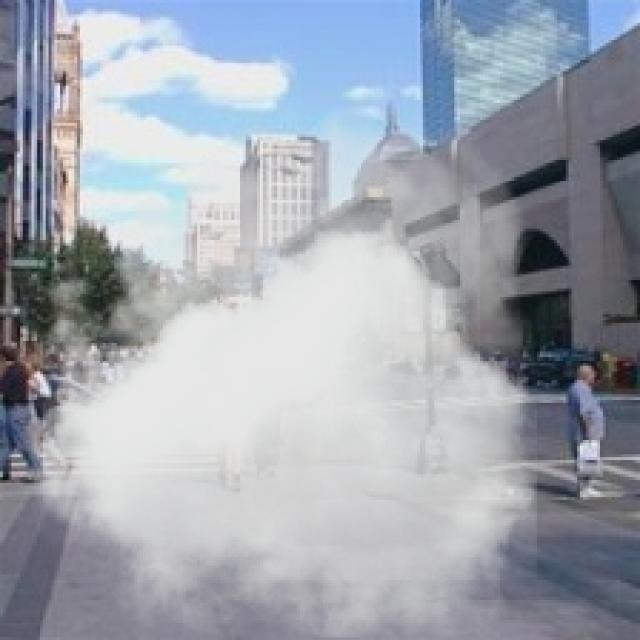smoke: (12, 86, 537, 637)
